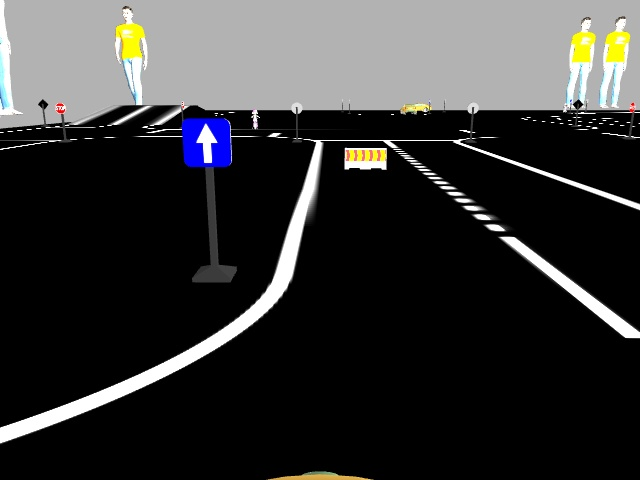ClosedRoadStand: (345, 148, 386, 169)
OneWay: (184, 121, 232, 165)
